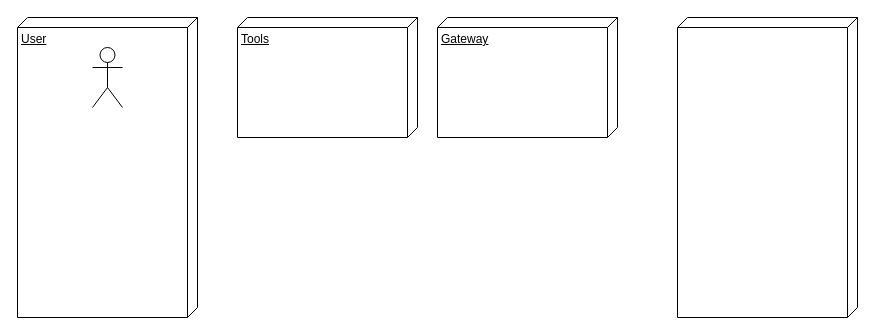
The diagram is 875 pixels wide and 335 high, and some of its shapes have lost their labels. The box of each missing label's shape, as (x1, y1, x2, y2) in pixels:
Model Developer: (92, 46, 122, 108)
Tier System: (676, 16, 858, 318)
